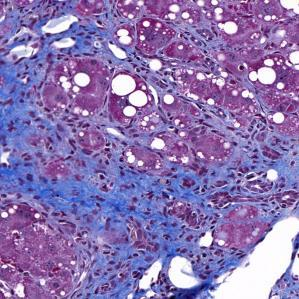fibrosis: (10, 131, 230, 235), (80, 245, 243, 299), (1, 12, 135, 77), (241, 123, 299, 219)
